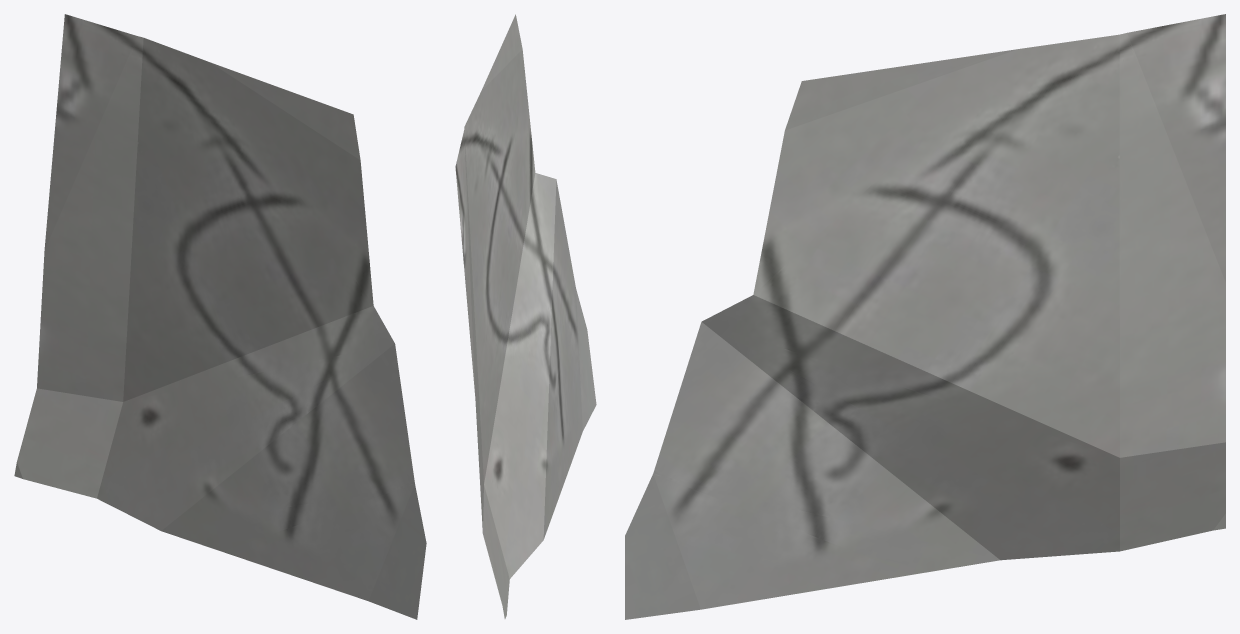
The picture shows the model from 3 angles, left to right: view 1: azimuth 30°, elevation 25°; view 2: azimuth 150°, elevation 25°; view 3: azimuth 270°, elevation 25°; orthographic projection. The views are drawn at different scales.
Bounding box in the file's own units: 0.3197 × 0.8373 × 0.8373.
Materials: 2 (2 with a texture image).
